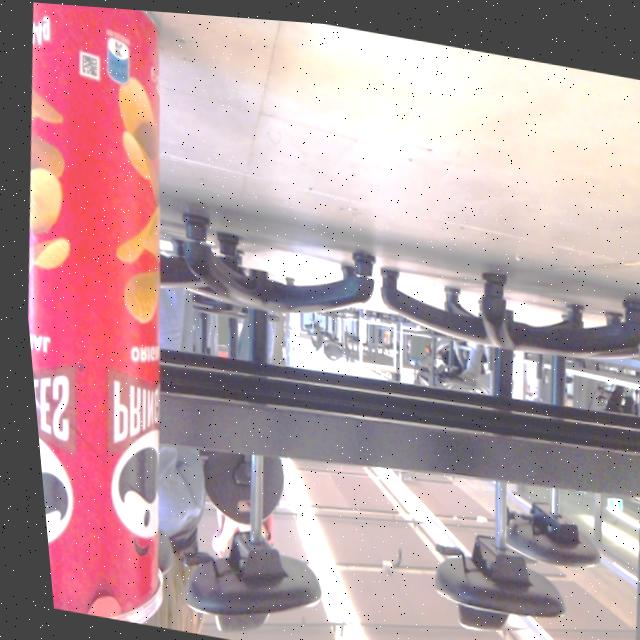redpringles: (0, 0, 221, 630)
